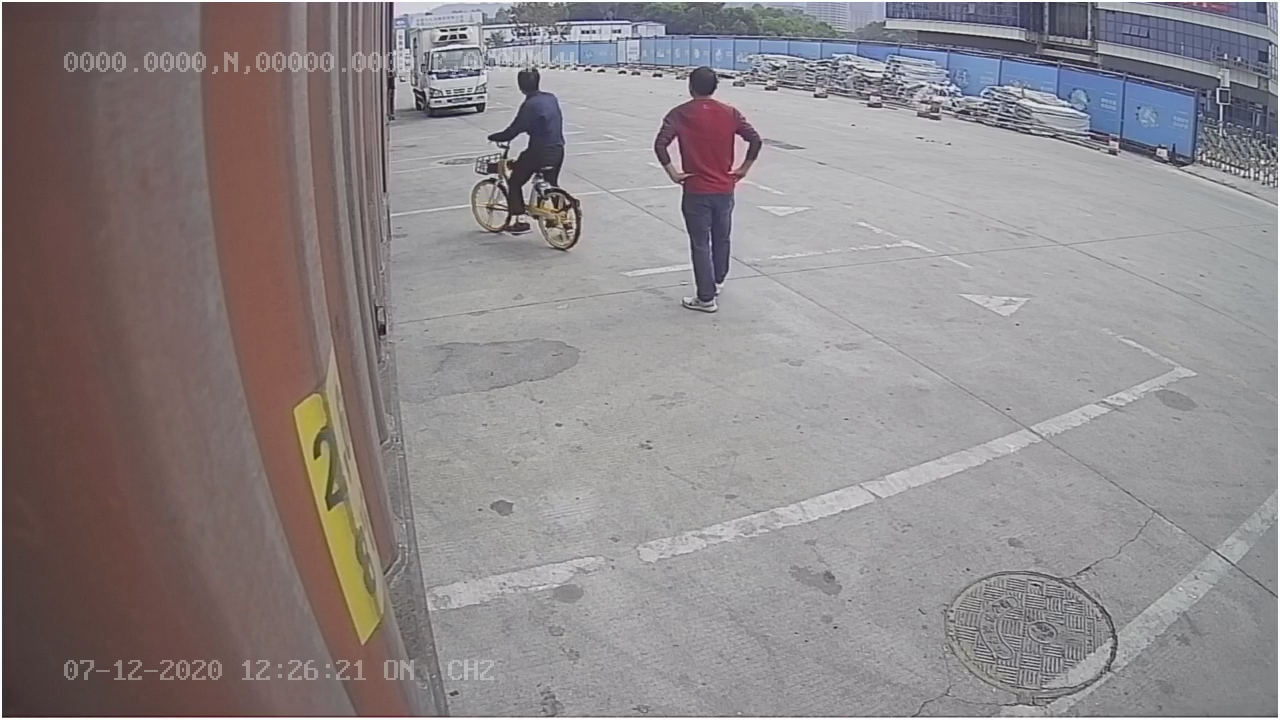person: (648, 65, 770, 317)
